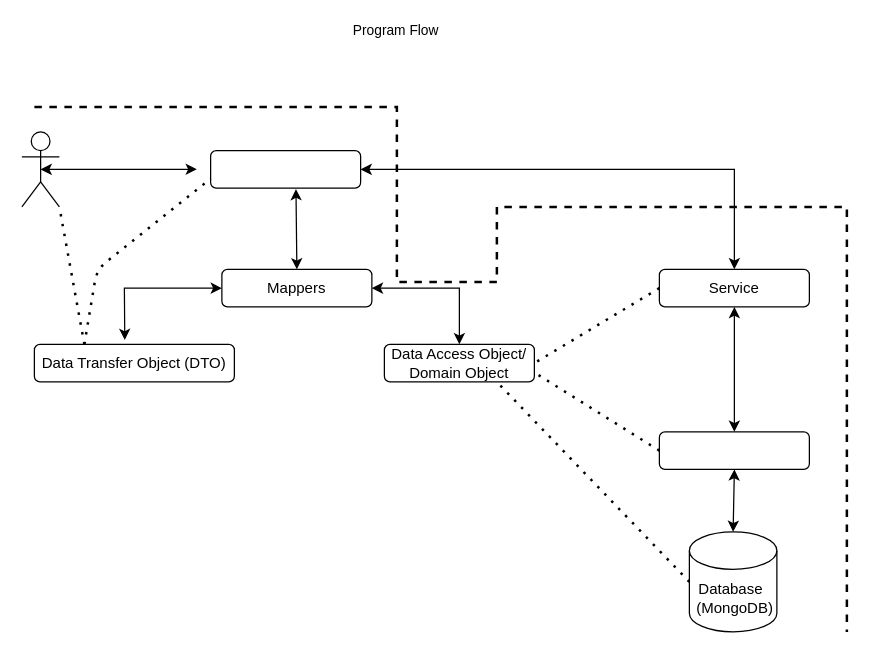
This 871x655 diagram has some shape labels left out. The shapes that lost their labels are listed below. From the top down, each one's box as (x1, y1, x2, y2) in pixels, then its label:
(21, 131, 59, 207): User
(209, 149, 361, 188): Rest Controller
(658, 431, 809, 469): Repository
